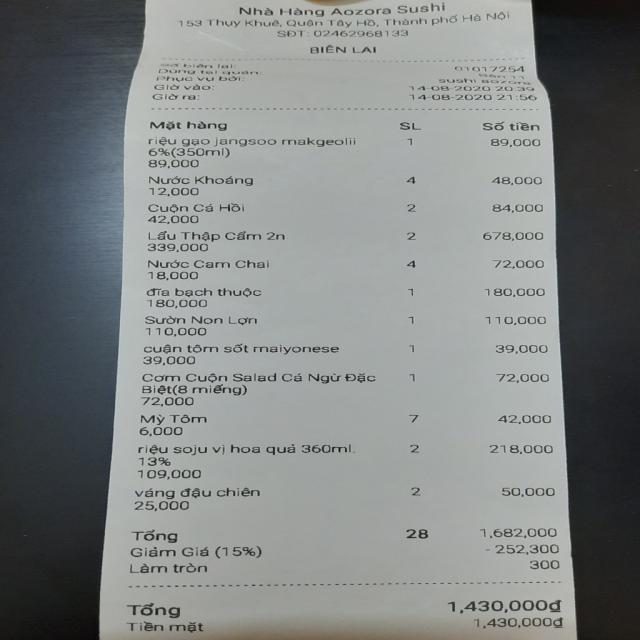Date: (410, 92, 494, 102)
Store_Name: (233, 2, 450, 15)
amount_number: (447, 600, 550, 614)
label_total: (127, 603, 185, 618)
